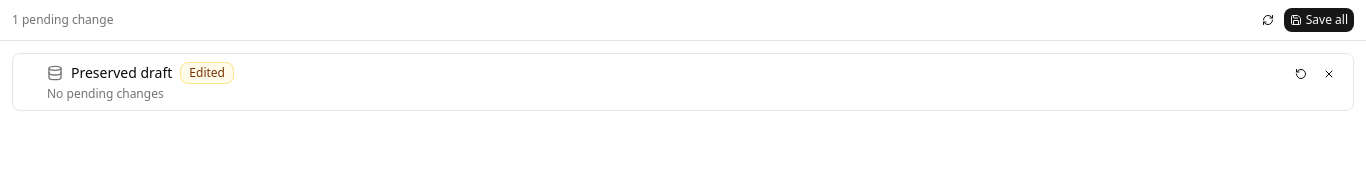
Canvas read and mutation ordering › shows a commit-time catalog error even when the fresh projection has no problems
Check: the text "Preserved draft" is shown, box x1=71 y1=63 x2=172 y2=83
What coordinates should you click on to do the following:
click the button with test id "canvas-commit-button"
I would click on:
 (1319, 20)
Its box is x1=1284 y1=8 x2=1354 y2=32.
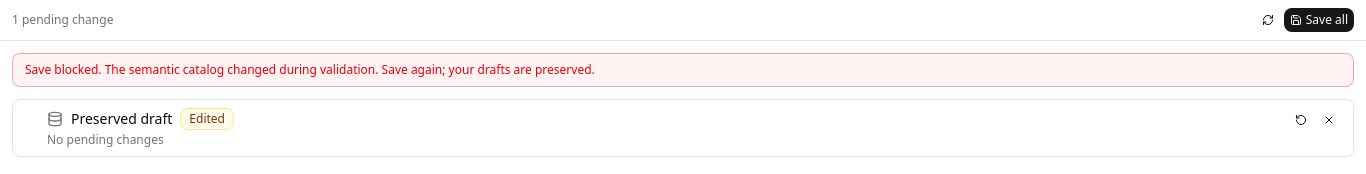
Check: the text "Preserved draft" is shown, box x1=71 y1=109 x2=172 y2=129
Check: the message shows "The semantic catalog changed during validation. Save again; your drafts are preserved.", box x1=25 y1=61 x2=595 y2=78
What coordinates should you click on to do the following:
click the button with test id "canvas-commit-button"
I would click on:
 (1319, 20)
Its box is x1=1284 y1=8 x2=1354 y2=32.
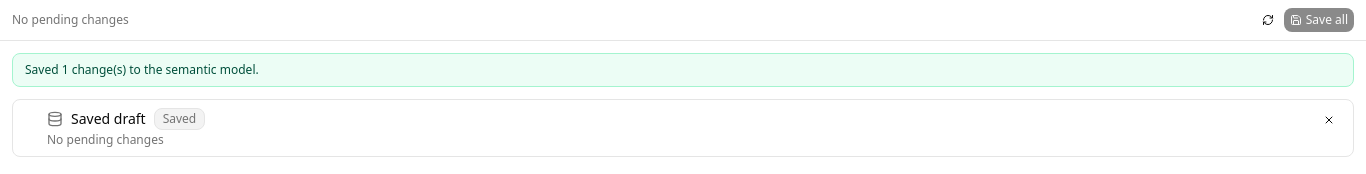
Check: the text "Saved draft" is shown, box x1=71 y1=109 x2=146 y2=129
Check: the message is gone
